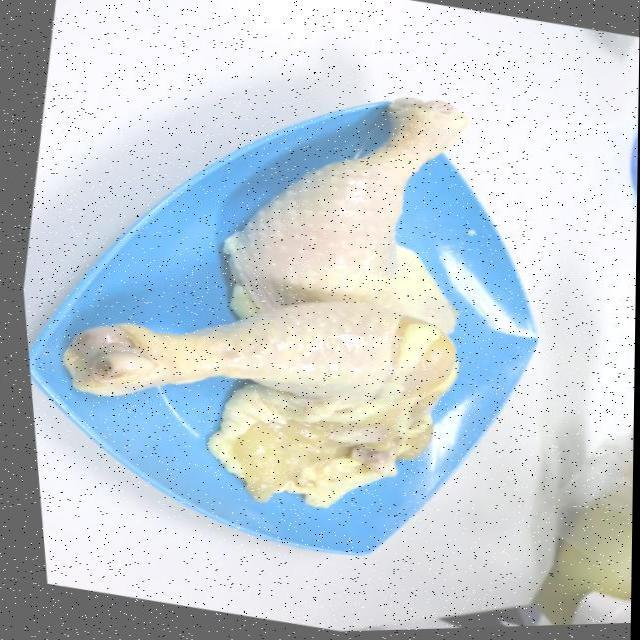quater: (80, 280, 446, 510), (275, 99, 494, 352)
